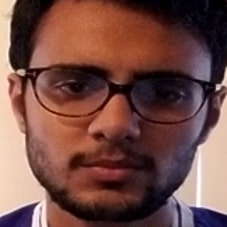awake: (37, 52, 199, 202)
